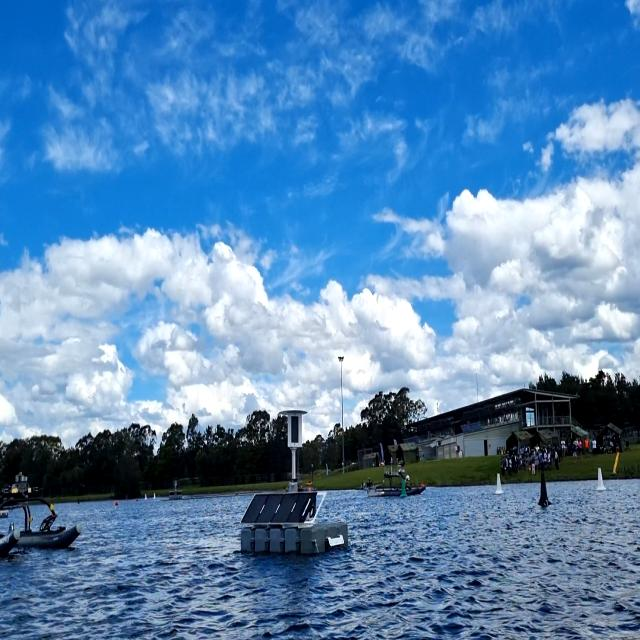led: (288, 414, 301, 446)
